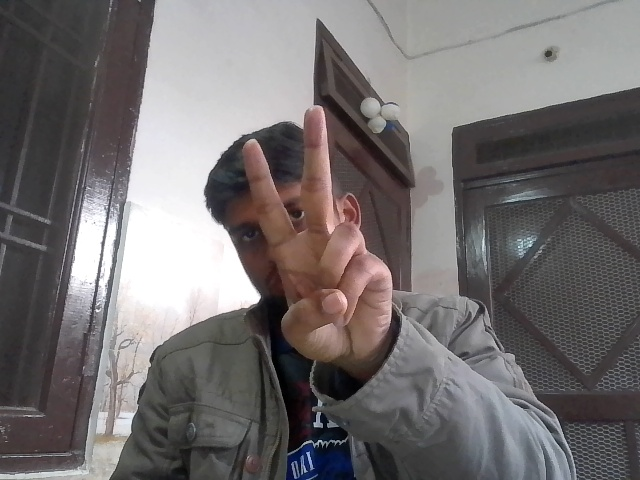Enjoy: (238, 103, 401, 359)
